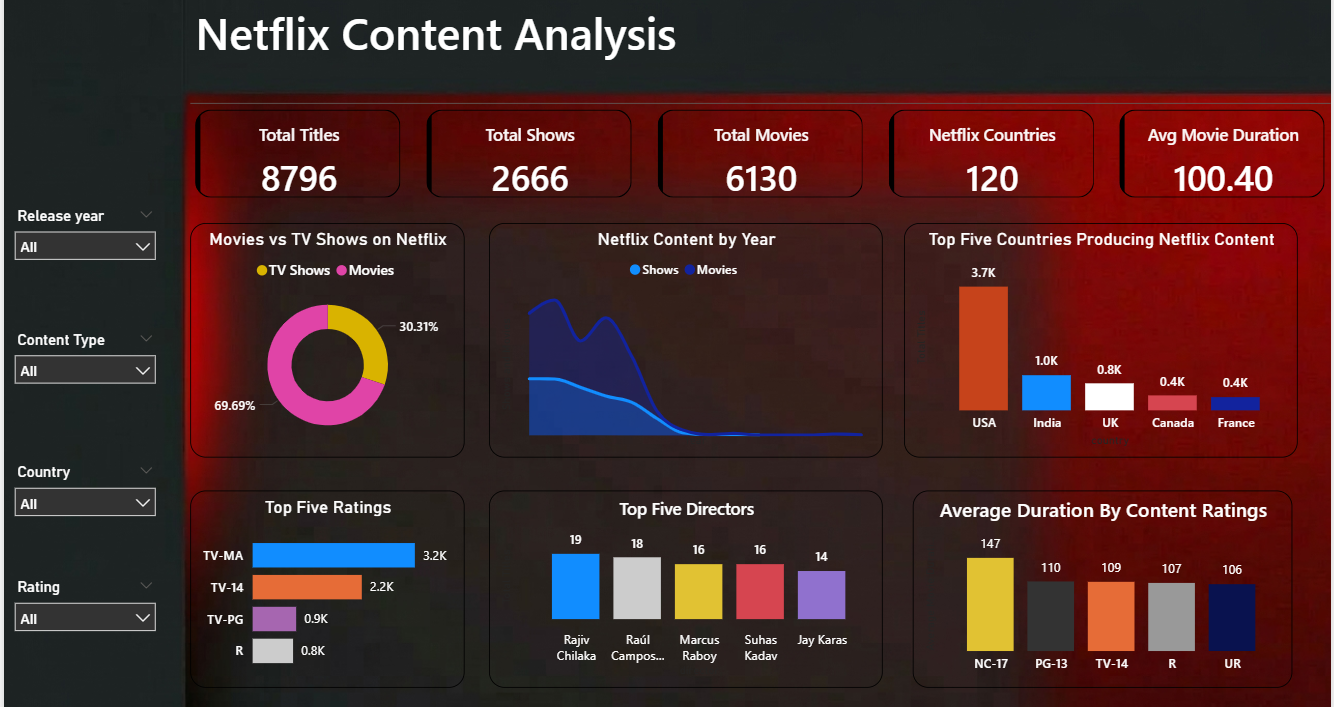

The page's visual inventory and layout, read from the dashboard file:
{"tool":"powerbi","page":{"name":"Page 1","canvas":[1280,720],"ordinal":0},"visuals":[{"type":"textbox","box":[179.8,13.7,741,87.8],"z":0},{"type":"cardVisual","fields":{"Data":["netflix_titles.Total Titles","netflix_titles.Total_ Shows","netflix_titles.Total_Movies","Countries.Distinct_Countries","netflix_titles.Average Movie Duration"]},"box":[179.8,111.1,1100.5,100],"z":1000},{"type":"donutChart","title":"Movies vs TV Shows on Netflix","fields":{"Y":["netflix_titles.Total_ Shows","netflix_titles.Total_Movies"]},"box":[179.8,231.9,264.8,226.4],"z":2000},{"type":"lineChart","title":"Netflix Content by Year","fields":{"Category":["Calender.Year"],"Y":["netflix_titles.Total_ Shows","netflix_titles.Total_Movies"]},"box":[467.9,231.9,380.1,226.4],"z":3000},{"type":"columnChart","title":"Top Five Countries Producing Netflix Content","fields":{"Category":["Countries.country"],"Y":["netflix_titles.Total Titles"]},"box":[868.6,231.9,380.1,226.4],"z":4000},{"type":"barChart","title":"Top Five Ratings","fields":{"Y":["netflix_titles.Total Titles"],"Category":["netflix_titles.rating"]},"box":[179.8,489.9,264.8,190.7],"z":5000},{"type":"clusteredColumnChart","title":"Top Five Directors","fields":{"Category":["netflix_titles.director"],"Y":["netflix_titles.Total Titles"]},"box":[467.9,489.9,380.1,190.7],"z":6000},{"type":"clusteredColumnChart","title":"Average Duration By Content Ratings","fields":{"Category":["netflix_titles.rating"],"Y":["netflix_titles.Average Movie Duration"]},"box":[876.8,489.9,366.4,190.7],"z":7000},{"type":"slicer","fields":{"Values":["netflix_titles.release_year"]},"box":[0,211.3,156.4,59],"z":8000},{"type":"slicer","fields":{"Values":["netflix_titles.type"]},"box":[0,330.7,156.4,59],"z":9000},{"type":"slicer","fields":{"Values":["Countries.country"]},"box":[0,458.3,156.4,61.7],"z":10000},{"type":"slicer","fields":{"Values":["netflix_titles.rating"]},"box":[0,569.5,156.4,61.7],"z":11000}]}

Visuals, with their boxes on the page's 1280x720 design canvas (x1, y1, x2, y2). These are canvas units, not pixel positions in the 1334x707 screenshot, which may show the page scaled, cropped or inside an application window:
textbox: <region>180, 14, 921, 102</region>
cardVisual - netflix_titles.Total Titles x netflix_titles.Total_ Shows: <region>180, 111, 1280, 211</region>
"Movies vs TV Shows on Netflix" donutChart: <region>180, 232, 445, 458</region>
"Netflix Content by Year" lineChart: <region>468, 232, 848, 458</region>
"Top Five Countries Producing Netflix Content" columnChart: <region>869, 232, 1249, 458</region>
"Top Five Ratings" barChart: <region>180, 490, 445, 681</region>
"Top Five Directors" clusteredColumnChart: <region>468, 490, 848, 681</region>
"Average Duration By Content Ratings" clusteredColumnChart: <region>877, 490, 1243, 681</region>
slicer - netflix_titles.release_year: <region>0, 211, 156, 270</region>
slicer - netflix_titles.type: <region>0, 331, 156, 390</region>
slicer - Countries.country: <region>0, 458, 156, 520</region>
slicer - netflix_titles.rating: <region>0, 570, 156, 631</region>
